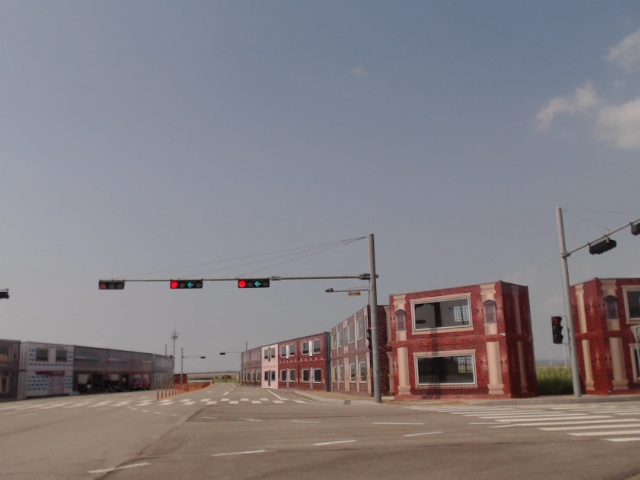left_green_4: (171, 281, 203, 289), (238, 280, 269, 287)
